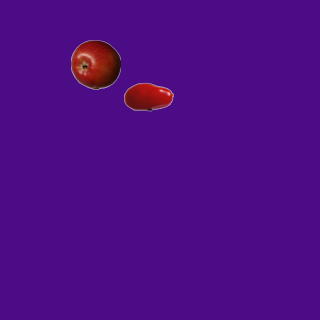Apple Braeburn: (70, 39, 120, 89)
Tomato 2: (123, 71, 173, 121)
